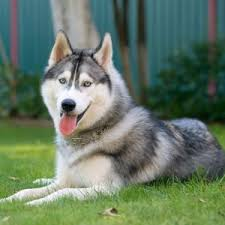Siberian Husky: (16, 18, 225, 211)
